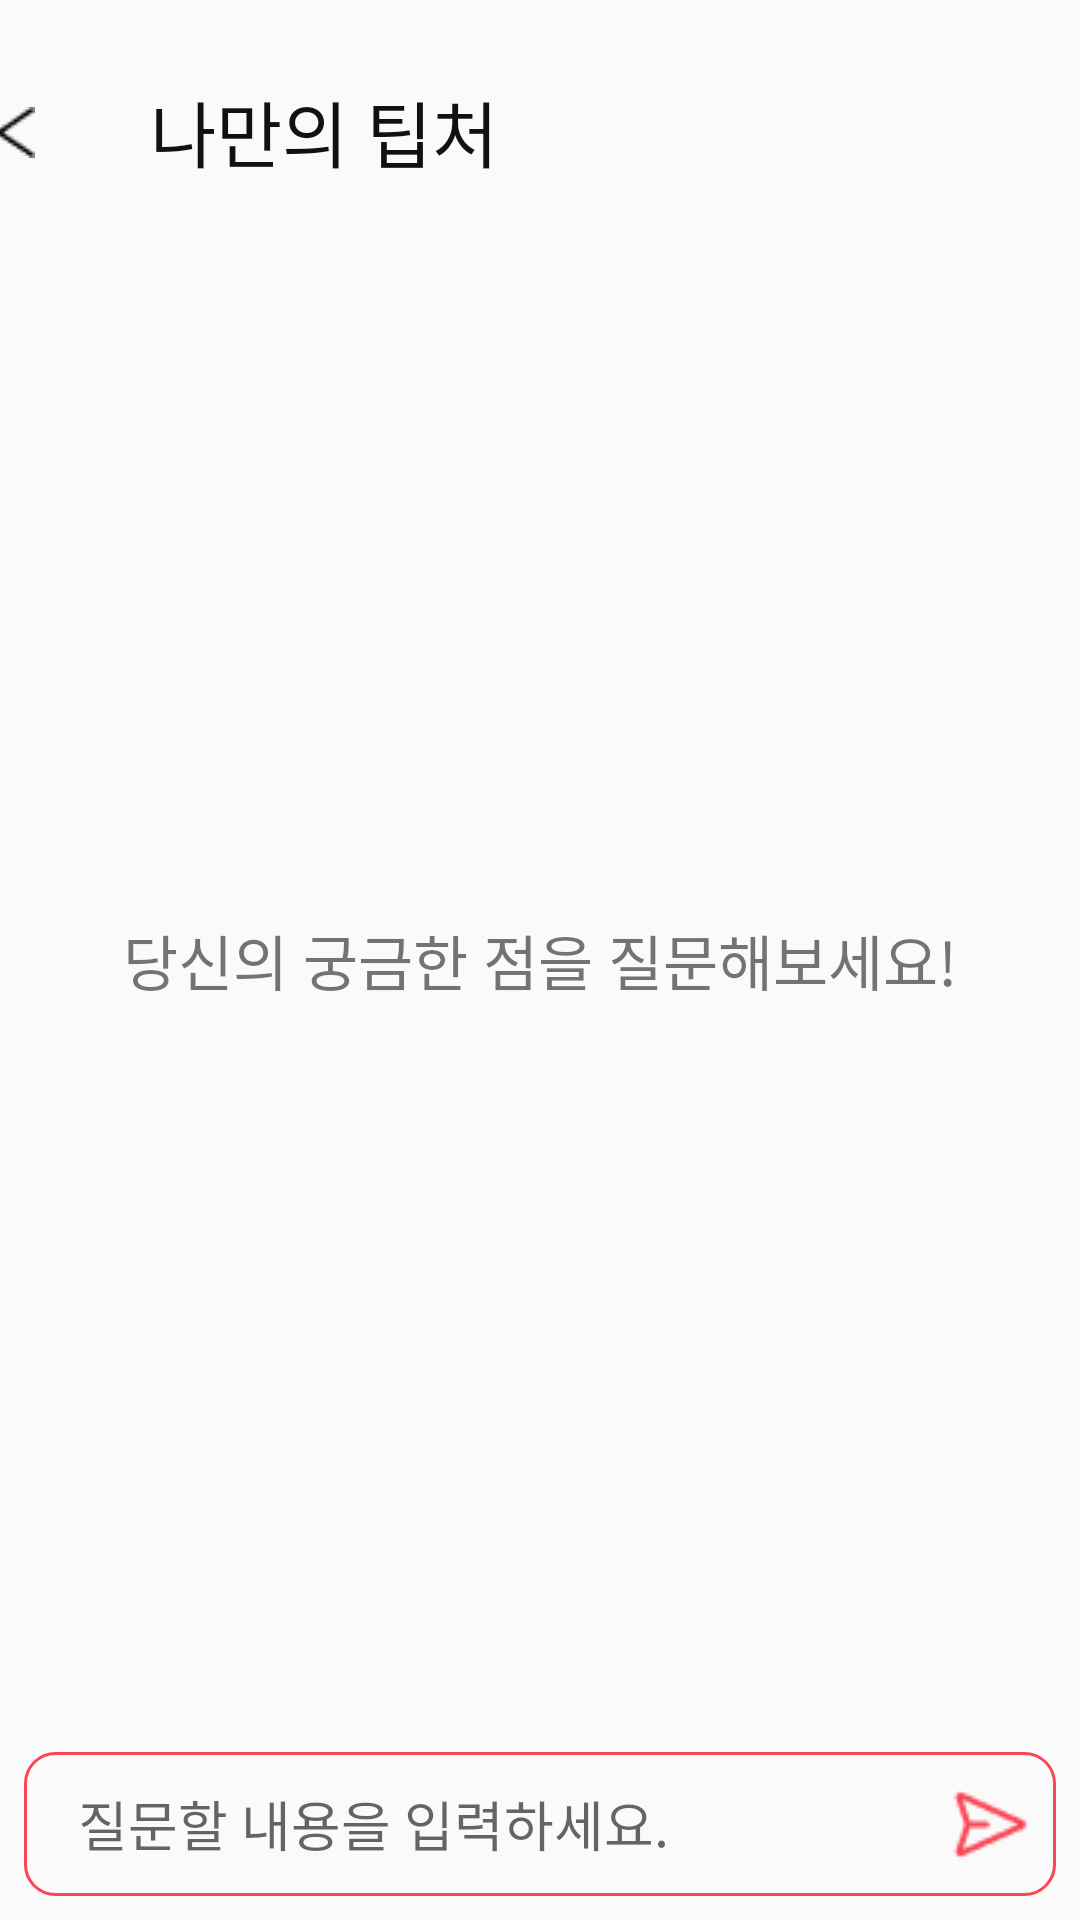

Named icons in this screenshot (1080x1920) and their bounding boxes, (x1, y1, x2, y2):
Send: (954, 1792, 1027, 1857)
